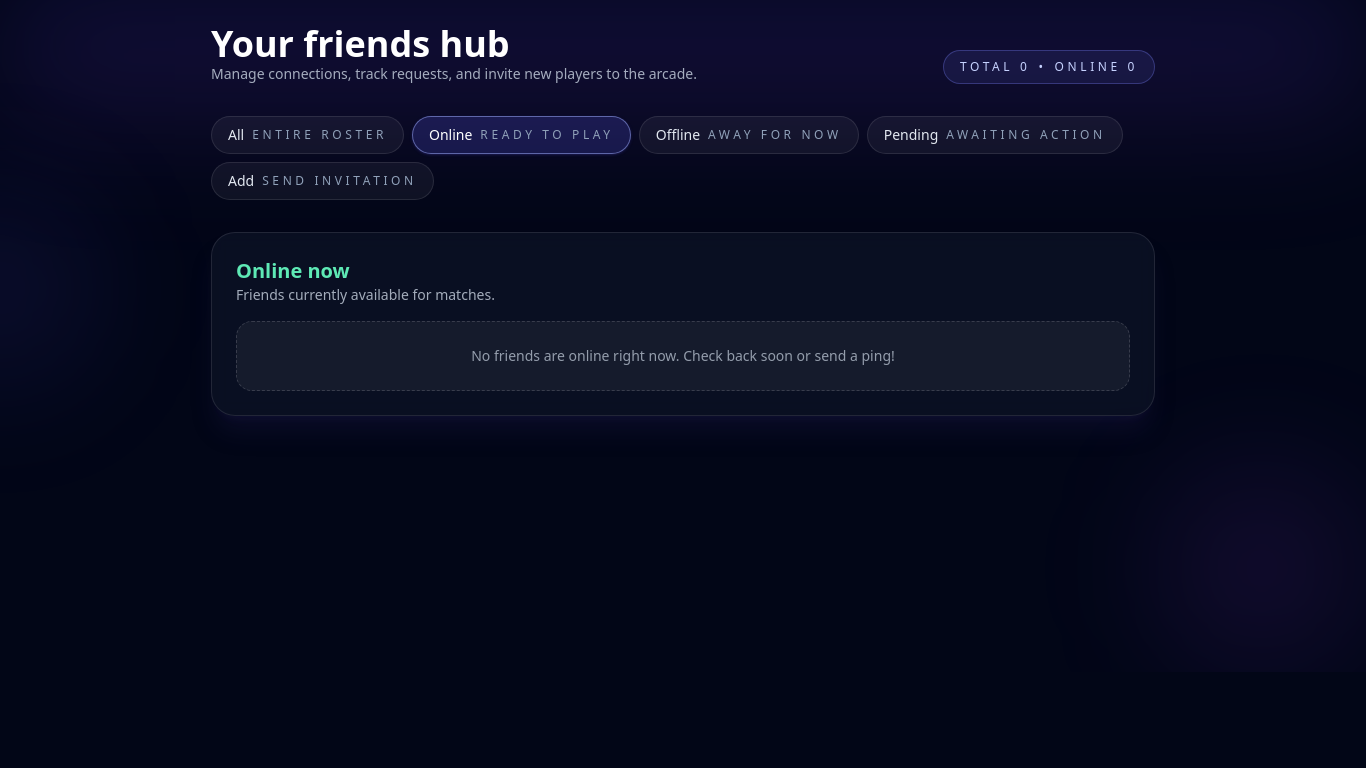
Scenario: Friends input sanitization › sanitizes email input - removes spaces, lowercases and strips invalid chars
The width and height of the screenshot is (1366, 768).
Click the button "Add Send invitation" at (322, 181), box [211,162,434,200]
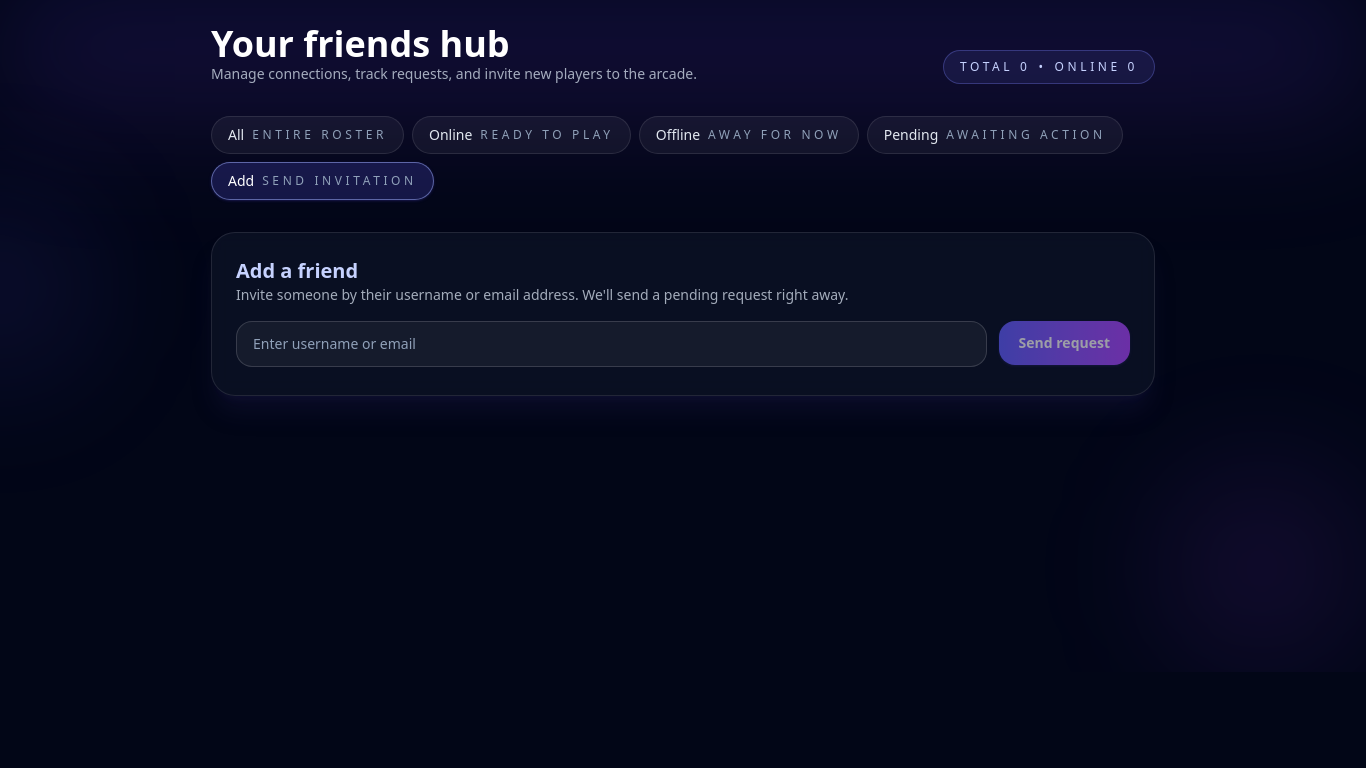
Type "Test@Exa mple.COM " into the field with placeholder "Enter username or email" at (611, 344), box [236,321,987,367]
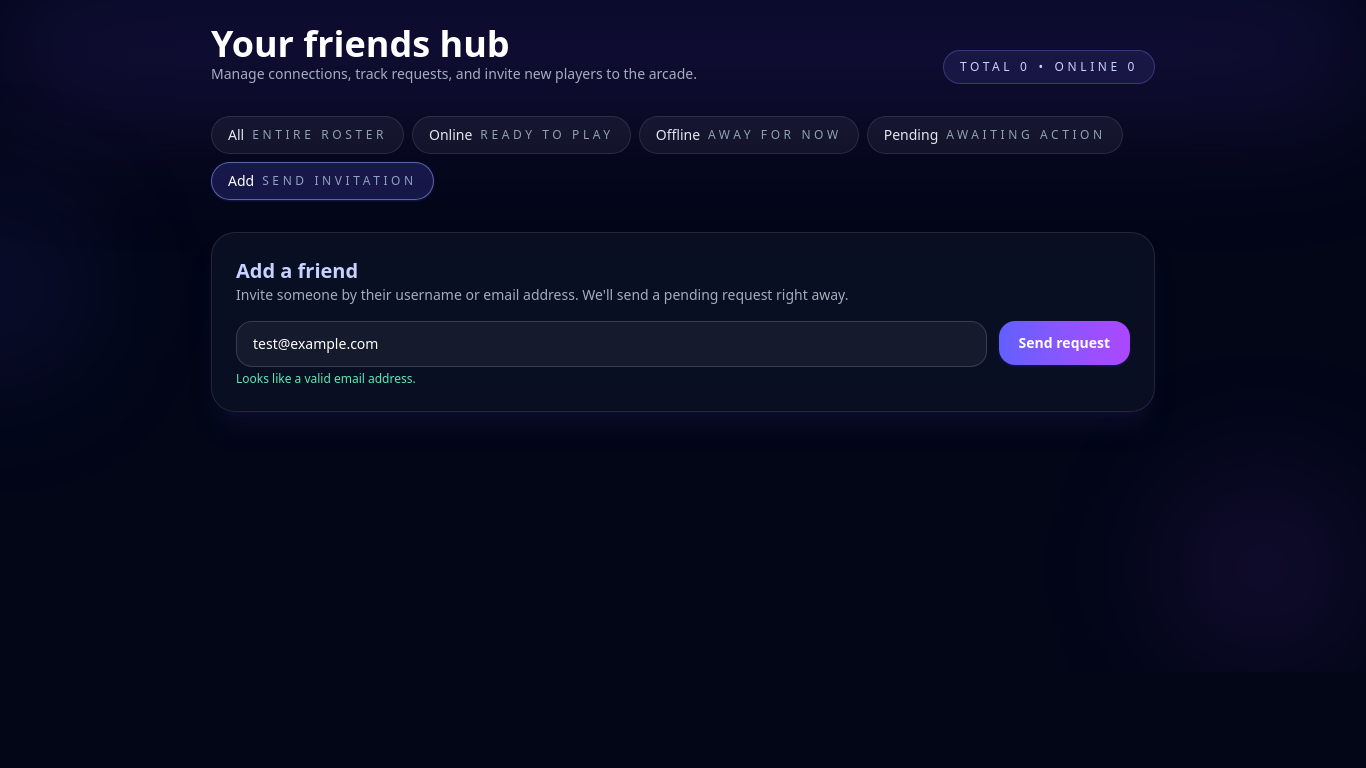
Expected: the field with placeholder "Enter username or email" holds "test@example.com"
invalid characters removed
Replace the text in the field with placeholder "Enter username or email" with "bad@em!ail#.com" at (611, 344), box [236,321,987,367]
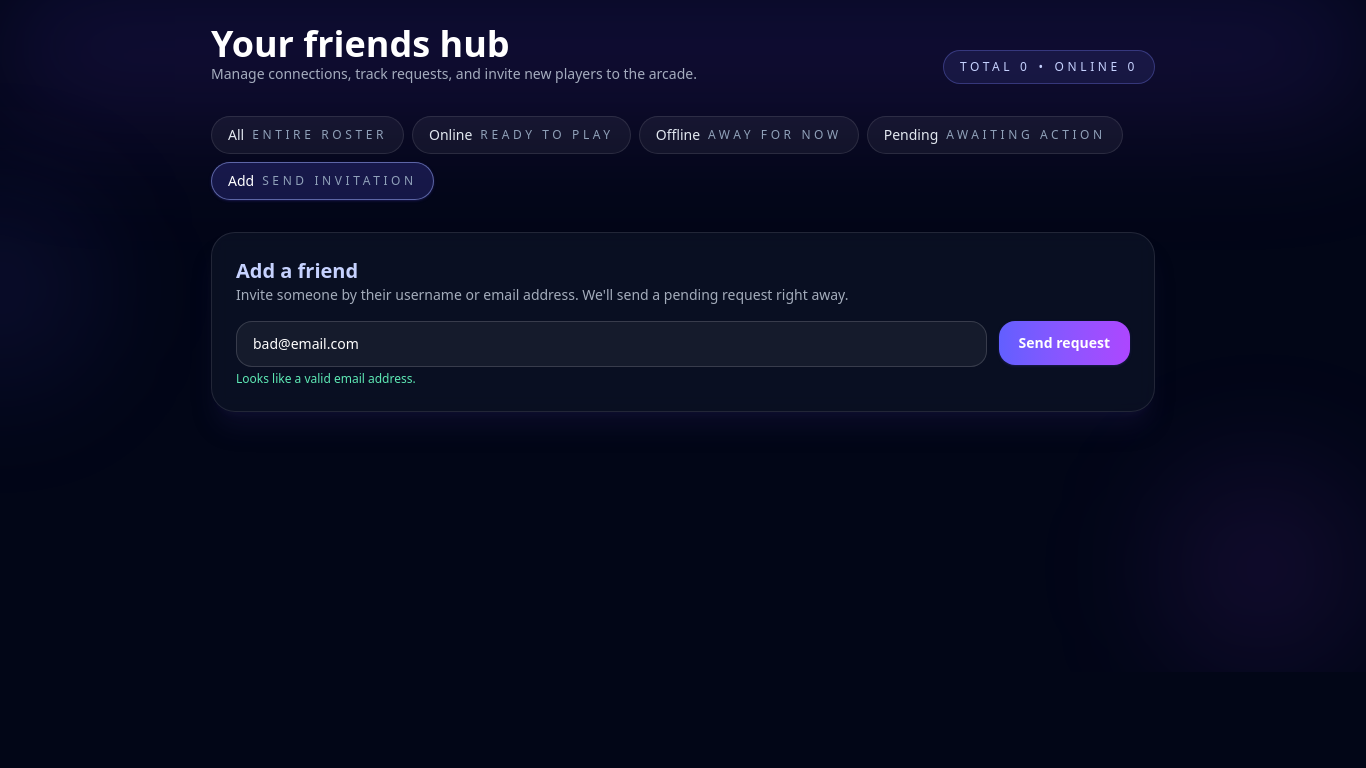
Expected: the field with placeholder "Enter username or email" holds "bad@email.com", [236,321,987,367]
